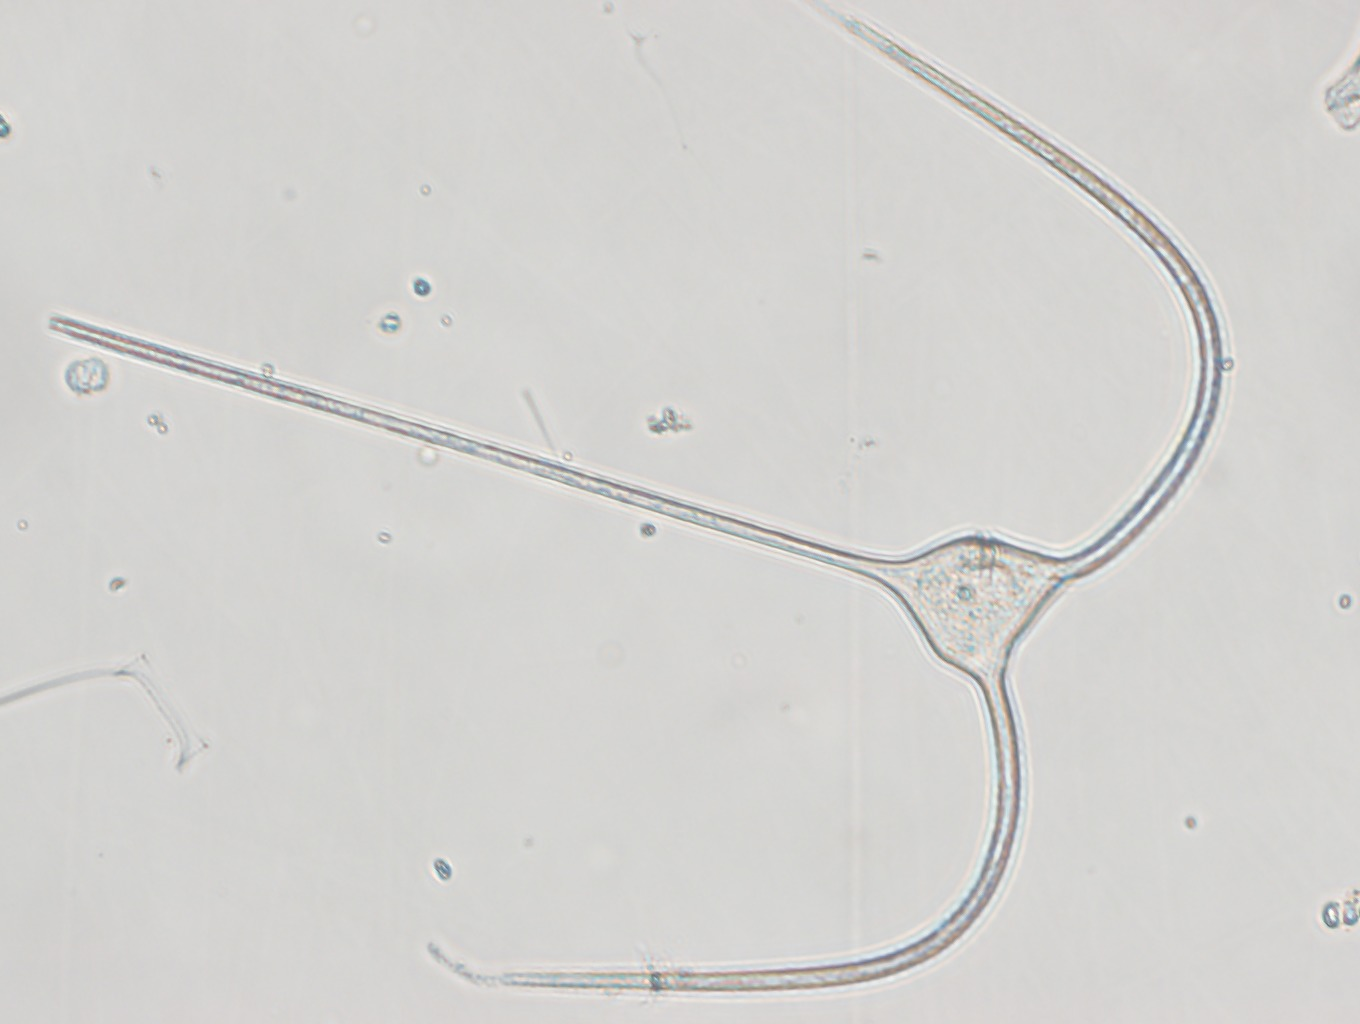ceratium trichoceros: (44, 2, 1230, 994)
